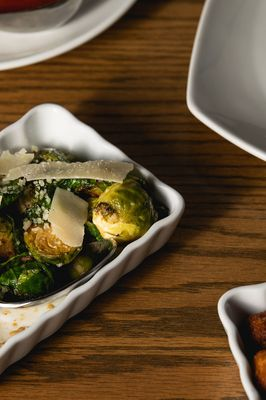sushi: (0, 110, 185, 364)
